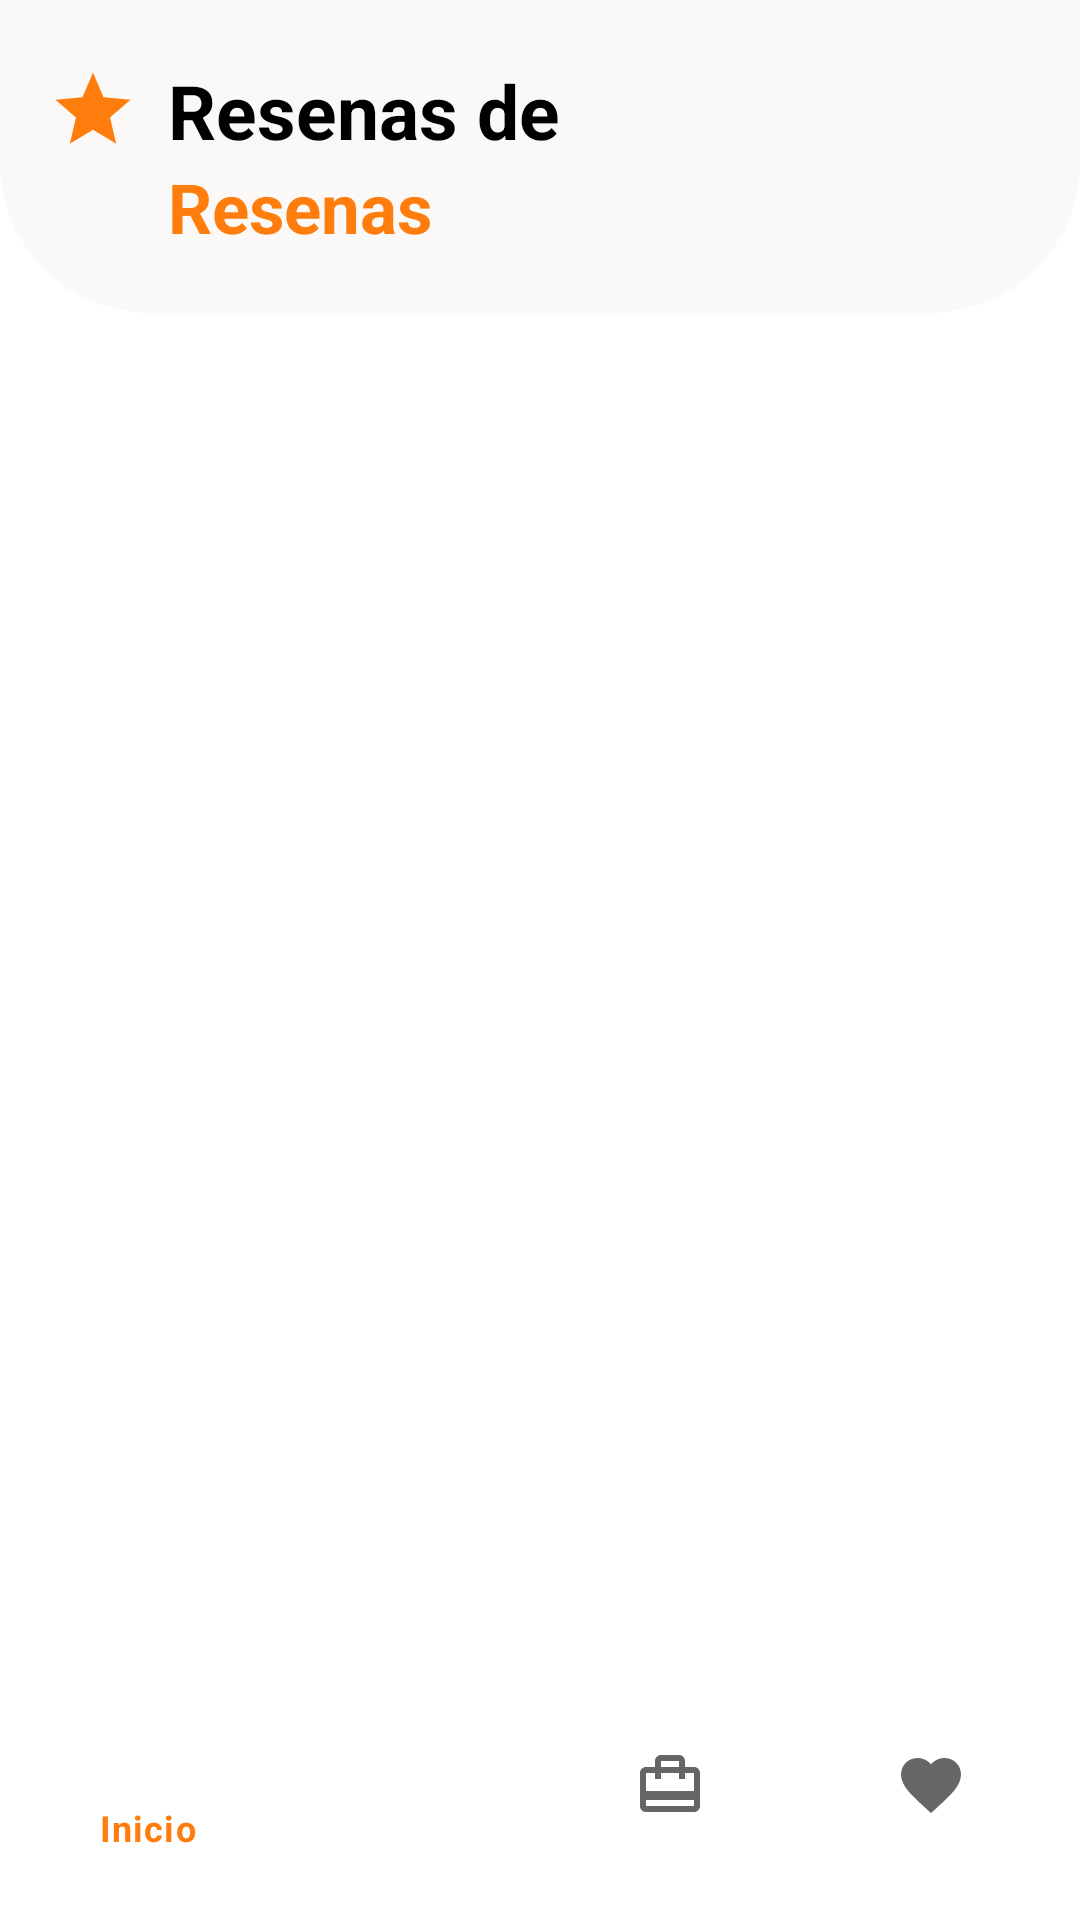

Icons on this 1080w x 1920h Android screen, each with its box as detection(x1, y1, x2, y2):
star: detection(56, 73, 130, 144)
